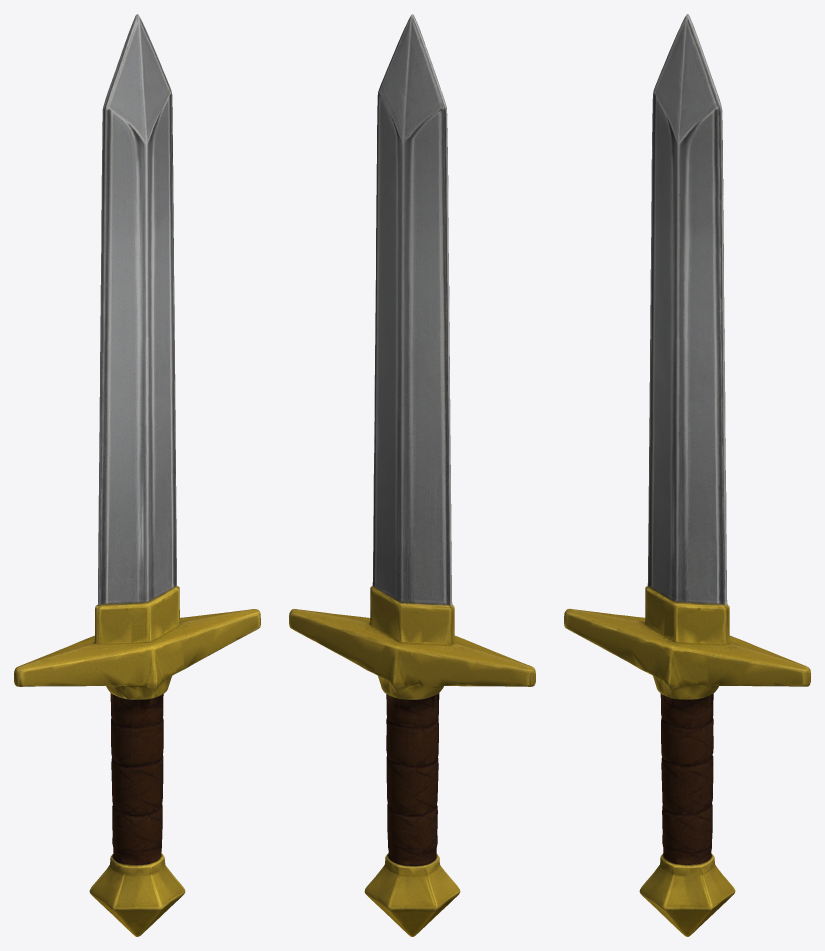
File: elfsword.glb
The picture shows the model from 3 angles, left to right: view 1: azimuth 30°, elevation 25°; view 2: azimuth 150°, elevation 25°; view 3: azimuth 330°, elevation 25°; orthographic projection.
Parts seen in each view (by area): view 1: mesh_node; view 2: mesh_node; view 3: mesh_node.
Part boxes in pixels (x1=…): mesh_node: x1=14, y1=14, x2=260, y2=936; mesh_node: x1=289, y1=14, x2=535, y2=936; mesh_node: x1=564, y1=14, x2=810, y2=936.
Bounding box in the file's own units: 0.5266 × 1.9 × 0.175.
Materials: 1 (1 with a texture image).
